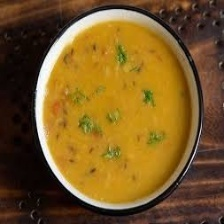dal: (35, 15, 199, 208)
